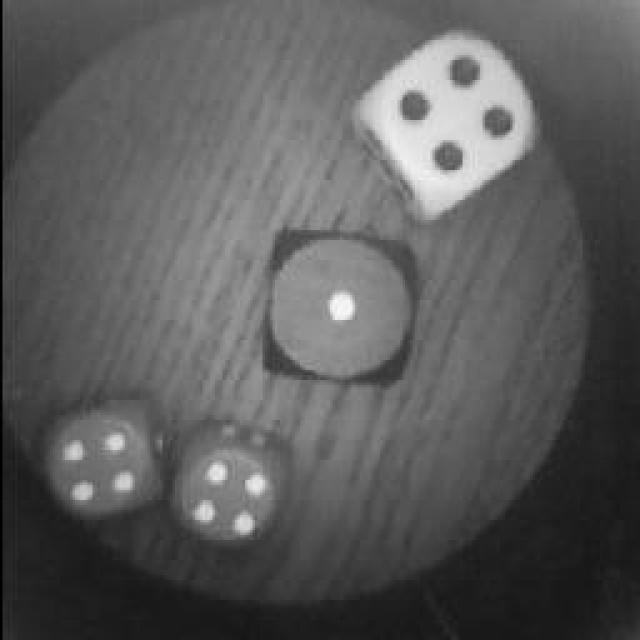dice_1: (257, 225, 415, 387)
dice_4: (352, 25, 542, 207), (37, 395, 165, 525), (165, 425, 287, 547)
